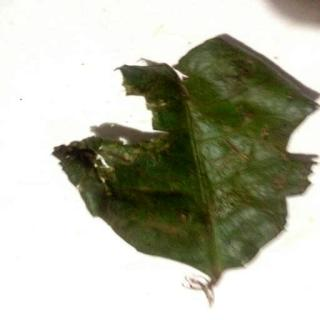Red Leaf Spot: (53, 38, 320, 282)
